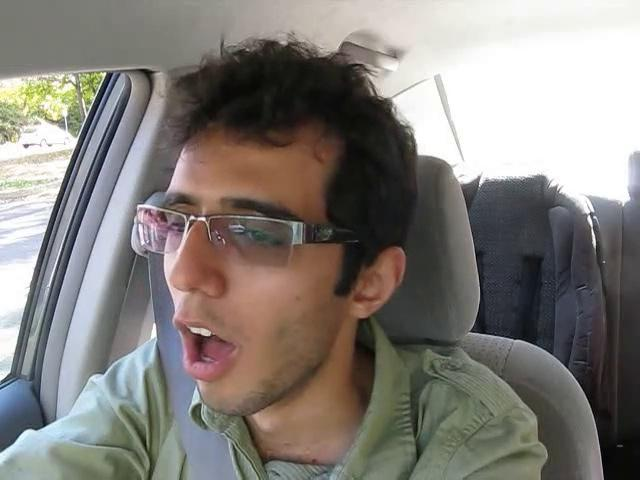open_eyeL: (151, 203, 203, 240)
open_eyeR: (217, 212, 298, 260)
yawn: (155, 316, 254, 381)
